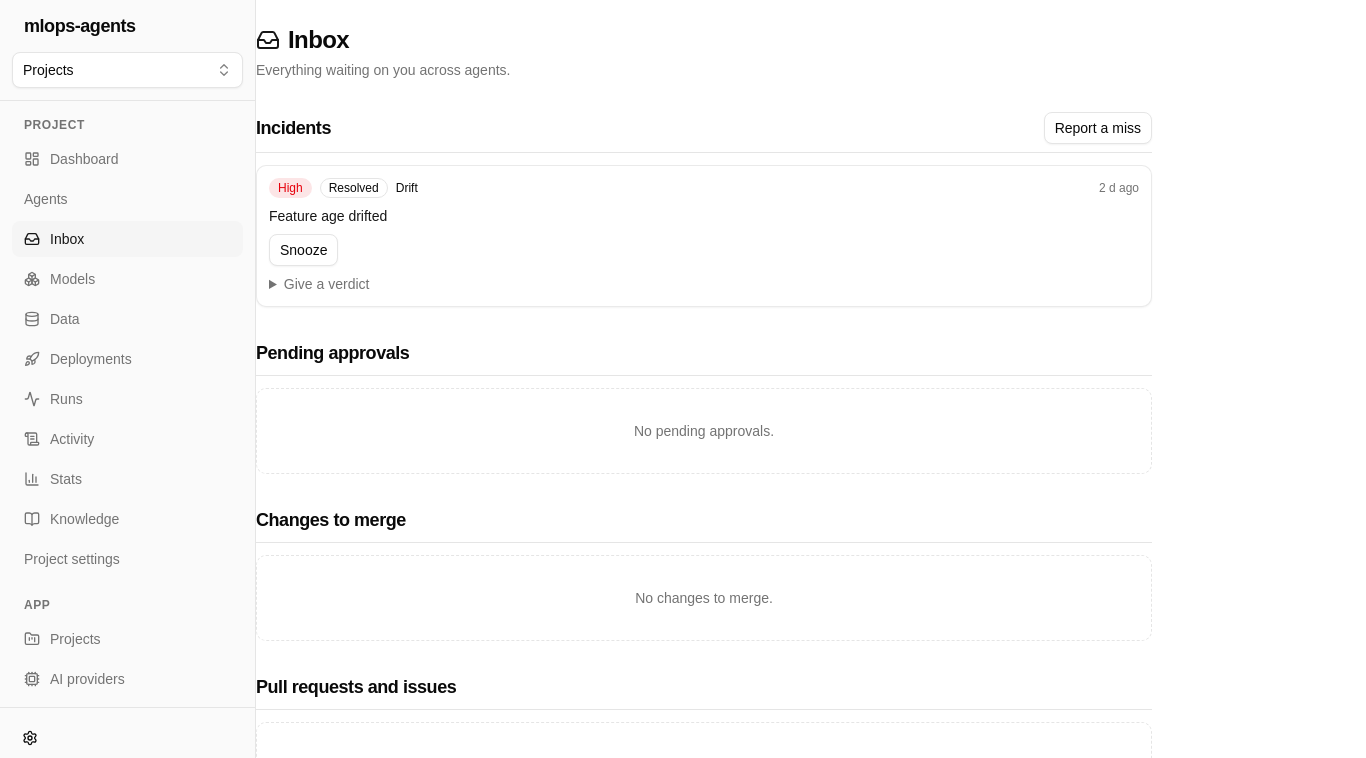
Test case: Inbox incidents section › offers the verdict but not Acknowledge on a resolved incident without a verdict
Click the heading "Give a verdict".
click(327, 284)  # box [284,276,369,292]
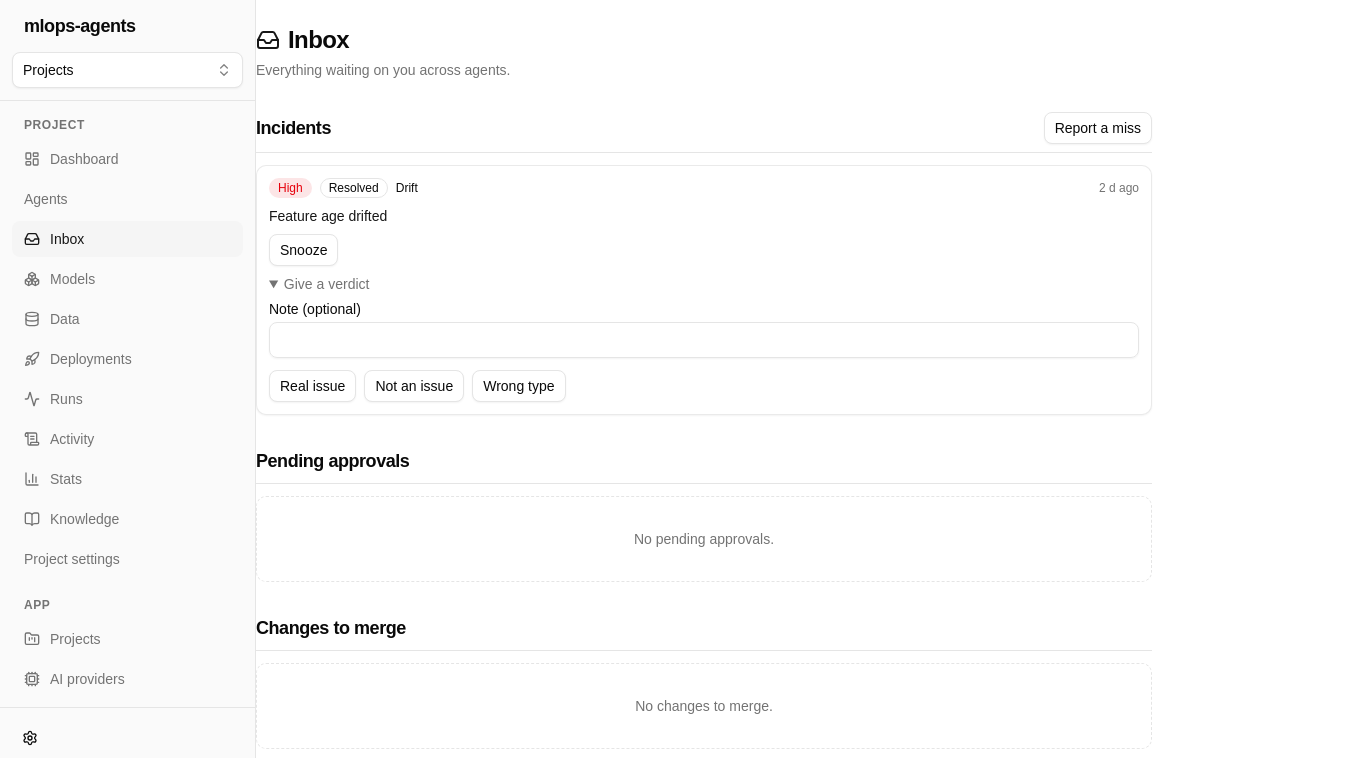
Expected: the button "Real issue" is shown, [269,370,356,402]
